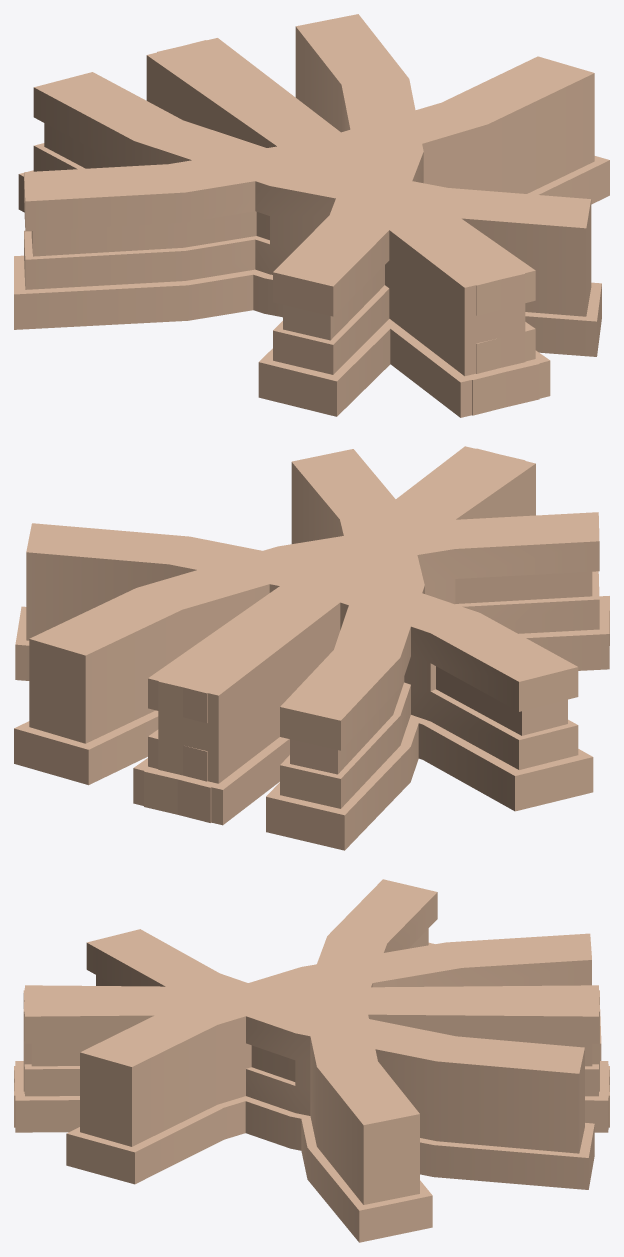
File: Corrimao.fbx
3 renders of one model, top to bottom at view 1: azimuth 30°, elevation 25°; view 2: azimuth 150°, elevation 25°; view 3: azimuth 270°, elevation 25°, orthographic. The views are drawn at different scales.
Parts seen in each view (by area): view 1: Corrmao_Center, Corrmao_Curve2, Corrmao_Curve1, Corrmao_Reto2, Corrmao_Reto1; view 2: Corrmao_Curve1, Corrmao_Center, Corrmao_Curve2, Corrmao_Reto1, Corrmao_Reto2; view 3: Corrmao_Curve1, Corrmao_Curve2, Corrmao_Center, Corrmao_Reto1, Corrmao_Reto2.
Part boxes in pixels (x1,y1,x2,y2): Corrmao_Center: (14,56,609,329); Corrmao_Curve2: (18,72,601,356); Corrmao_Curve1: (258,14,423,416); Corrmao_Reto2: (157,38,539,417); Corrmao_Reto1: (146,40,550,415); Corrmao_Curve1: (14,512,609,785); Corrmao_Center: (15,523,593,811); Corrmao_Curve2: (266,449,424,850); Corrmao_Reto1: (144,446,525,825); Corrmao_Reto2: (133,448,535,822); Corrmao_Curve1: (86,929,594,1189); Corrmao_Curve2: (66,933,601,1184); Corrmao_Center: (301,879,437,1242); Corrmao_Reto1: (14,985,609,1132); Corrmao_Reto2: (14,985,609,1132).
Bounding box in the file's own units: 27.78 × 5.63 × 27.17.
